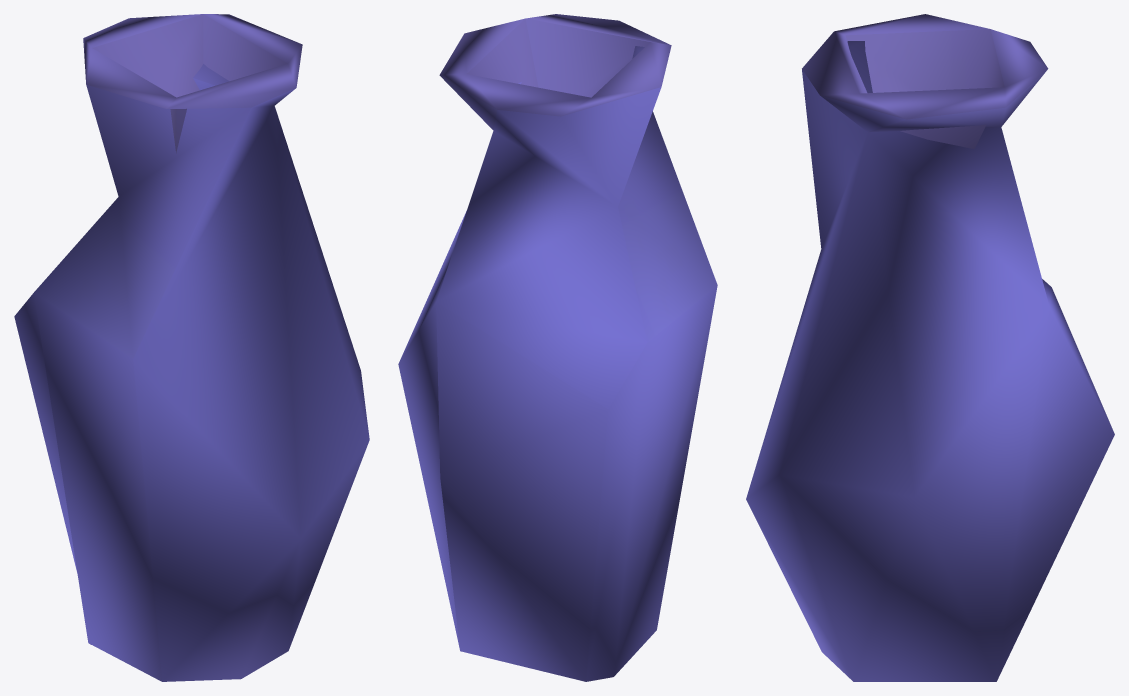
Rendered from model.progressive.glb.
3 views of the same model, side by side, from view 1: azimuth 30°, elevation 25°; view 2: azimuth 150°, elevation 25°; view 3: azimuth 270°, elevation 25° (orthographic).
Visible parts, largest first — view 1: material; view 2: material; view 3: material.
Part boxes in pixels (x1=…): material: x1=14, y1=14, x2=369, y2=681; material: x1=398, y1=14, x2=717, y2=681; material: x1=746, y1=14, x2=1114, y2=681.
Size of the model in its own units: 0.9763 by 1.9 by 1.07.
1 material, 1 textured.
